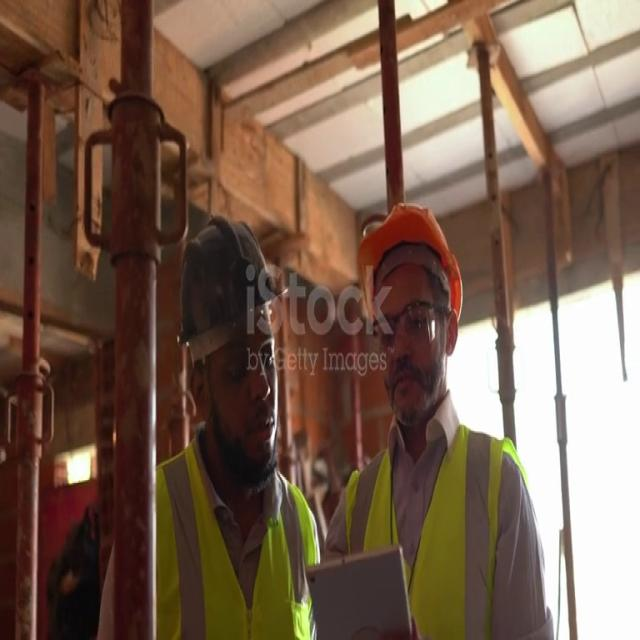capacete: (167, 209, 294, 374), (345, 195, 469, 358)
